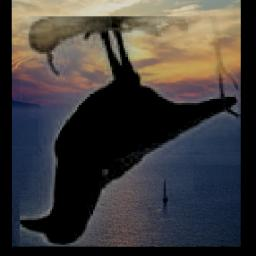Crow: (20, 17, 241, 247)
